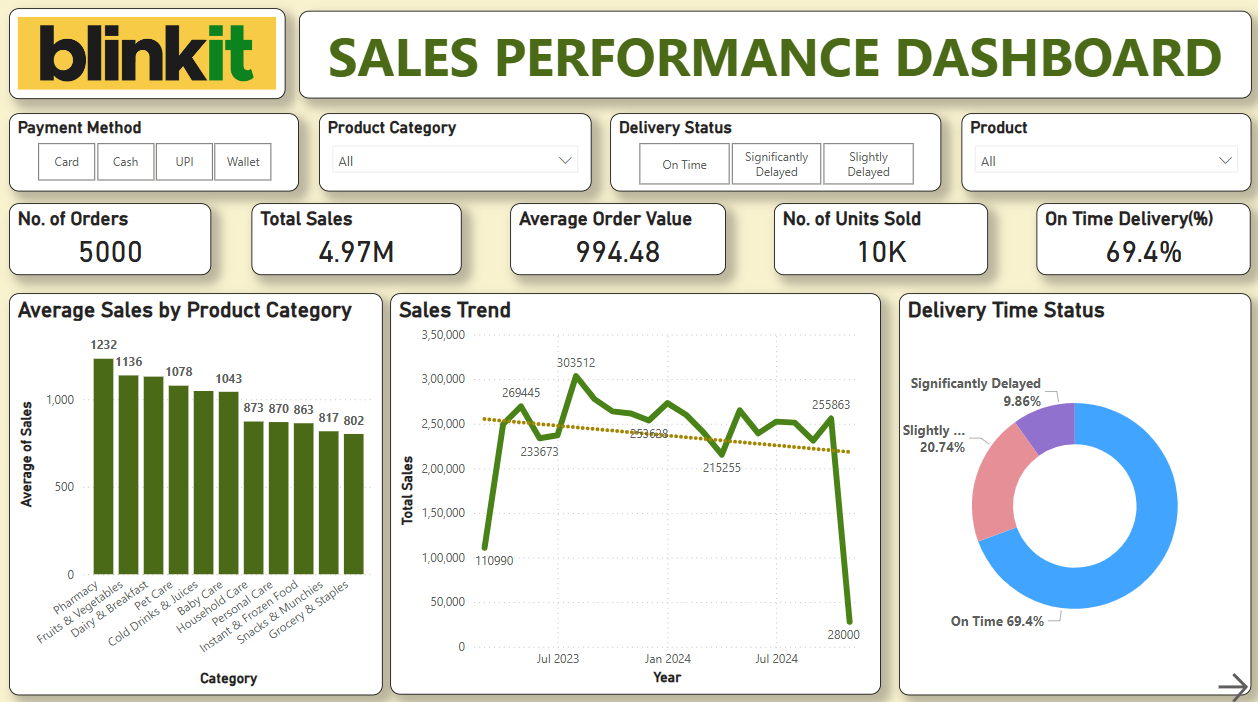

The dashboard page shown, as its layout file describes it:
{"tool":"powerbi","page":{"name":"Page 1","canvas":[1280,720],"ordinal":0},"visuals":[{"type":"image","box":[9.6,11,279.9,91.9],"z":0},{"type":"textbox","box":[303.3,13.7,964.7,89.2],"z":1000},{"type":"slicer","title":"Payment Method","fields":{"Values":["blinkit_orders.payment_method"]},"box":[9.6,118,293.7,79.6],"z":2000},{"type":"slicer","title":"Product Category","fields":{"Values":["blinkit_products.category"]},"box":[323.8,118,275.8,79.6],"z":3000},{"type":"slicer","title":"Delivery Status","fields":{"Values":["blinkit_orders.delivery_status"]},"box":[618.9,118,334.8,79.6],"z":4000},{"type":"slicer","title":"Product","fields":{"Values":["blinkit_products.product_name"]},"box":[974.3,118,293.7,79.6],"z":5000},{"type":"card","title":"Total Sales","fields":{"Values":["Sum(blinkit_order_items.Sales)"]},"box":[255.2,208.6,212.7,72.7],"z":6000},{"type":"card","title":"Average Order Value","fields":{"Values":["blinkit_order_items.Average Order Value"]},"box":[517.3,208.6,218.2,72.7],"z":7000},{"type":"card","title":"No. of Orders","fields":{"Values":["CountNonNull(blinkit_order_items.quantity)"]},"box":[9.6,208.6,204.5,72.7],"z":8000},{"type":"card","title":"No. of Units Sold","fields":{"Values":["Sum(blinkit_order_items.quantity)"]},"box":[784.9,208.6,216.8,72.7],"z":9000},{"type":"card","title":"On Time Delivery(%)","fields":{"Values":["blinkit_order_items.On time delivery (%)"]},"box":[1051.1,208.6,216.8,72.7],"z":10000},{"type":"columnChart","title":"Average Sales by Product Category","fields":{"Category":["blinkit_products.category"],"Y":["Avg(blinkit_order_items.Sales)"]},"box":[9.6,300.5,378.7,407.5],"z":11000},{"type":"lineChart","title":"Sales Trend ","fields":{"Category":["blinkit_orders.order_date.Variation.Date Hierarchy.Year","blinkit_orders.order_date.Variation.Date Hierarchy.Month"],"Y":["Sum(blinkit_order_items.Sales)"]},"box":[396.6,300.5,496.7,406.2],"z":12000},{"type":"donutChart","title":"Delivery Time Status","fields":{"Category":["blinkit_orders.delivery_status"],"Y":["Divide(CountNonNull(blinkit_orders.delivery_status), ScopedEval(CountNonNull(blinkit_orders.delivery_status), []))"]},"box":[911.2,300.5,356.8,407.5],"z":13000},{"type":"actionButton","box":[1229.2,680.2,50.8,39.8],"z":14000}]}

Visuals, with their boxes in screenshot pixels (x1, y1, x2, y2), scaled from the page's 1280x720 canvas onto the 1258x702 screenshot:
image: 9/11/285/100
textbox: 298/13/1246/100
"Payment Method" slicer: 9/115/298/193
"Product Category" slicer: 318/115/589/193
"Delivery Status" slicer: 608/115/937/193
"Product" slicer: 958/115/1246/193
"Total Sales" card: 251/203/460/274
"Average Order Value" card: 508/203/723/274
"No. of Orders" card: 9/203/210/274
"No. of Units Sold" card: 771/203/984/274
"On Time Delivery(%)" card: 1033/203/1246/274
"Average Sales by Product Category" columnChart: 9/293/382/690
"Sales Trend " lineChart: 390/293/878/689
"Delivery Time Status" donutChart: 896/293/1246/690
actionButton: 1208/663/1257/701
